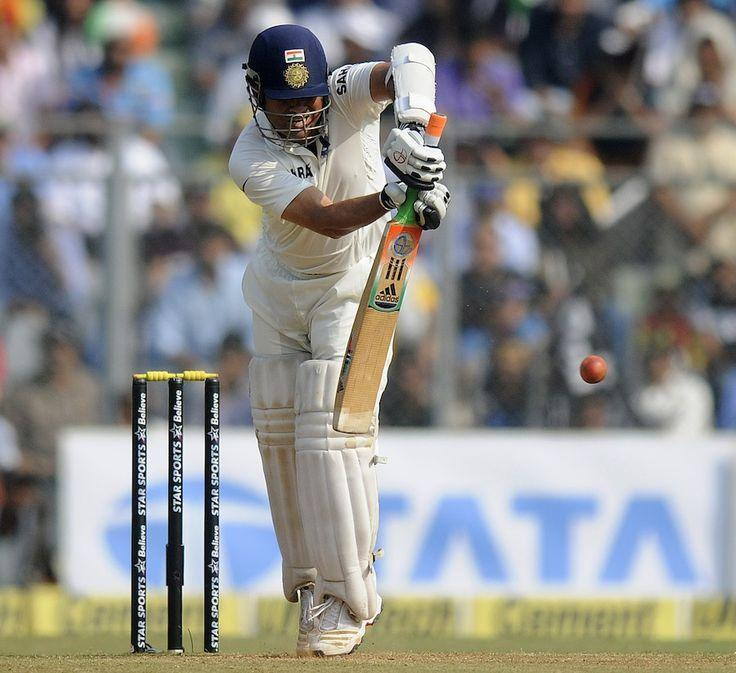batsman: (210, 17, 506, 634)
